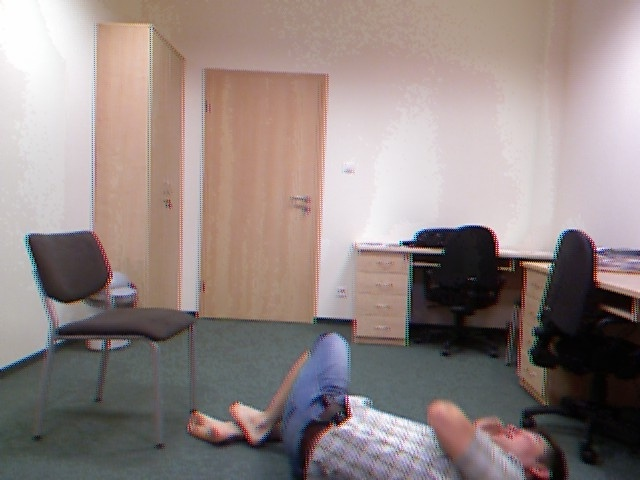fall: (180, 328, 571, 480)
